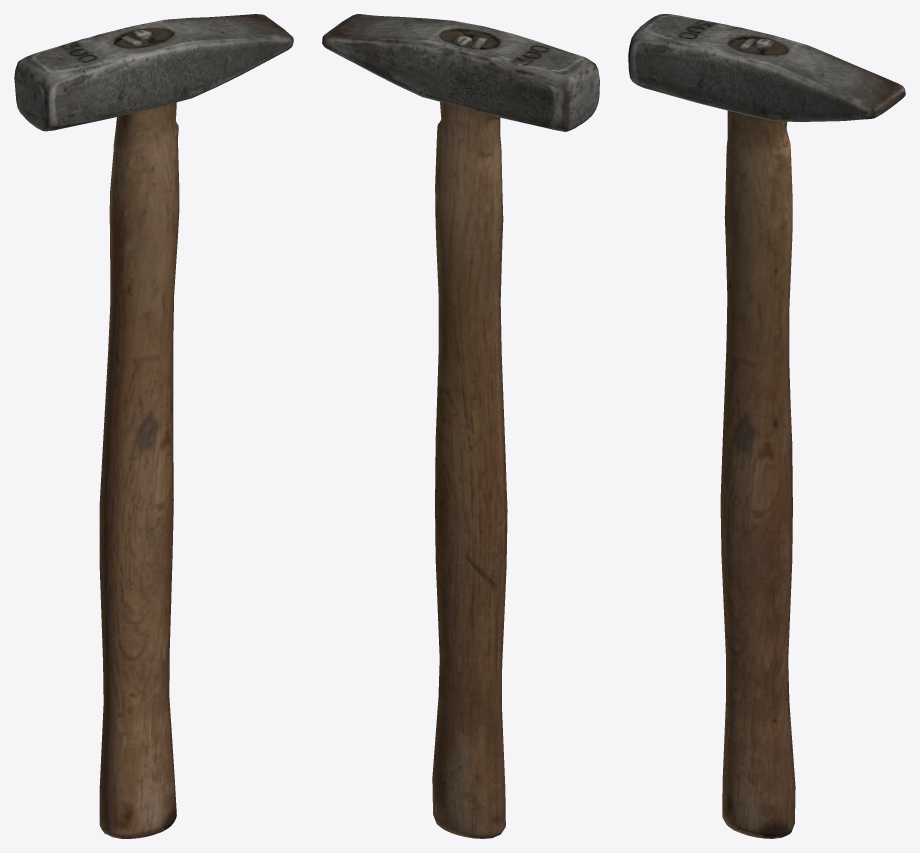
Rendered from cross_pein_hammer.glb.
3 views of the same model, side by side, from view 1: azimuth 30°, elevation 25°; view 2: azimuth 150°, elevation 25°; view 3: azimuth 330°, elevation 25° (orthographic).
Parts seen in each view (by area): view 1: cross_pein_hammer; view 2: cross_pein_hammer; view 3: cross_pein_hammer.
Boxes of the visible parts, box(x1,y1,x2,y2) form: cross_pein_hammer: box(14, 14, 293, 838); cross_pein_hammer: box(322, 14, 599, 838); cross_pein_hammer: box(628, 14, 905, 838).
Bounding box in the file's own units: 0.0991 × 0.3002 × 0.0243.
Materials: 1 (1 with a texture image).
